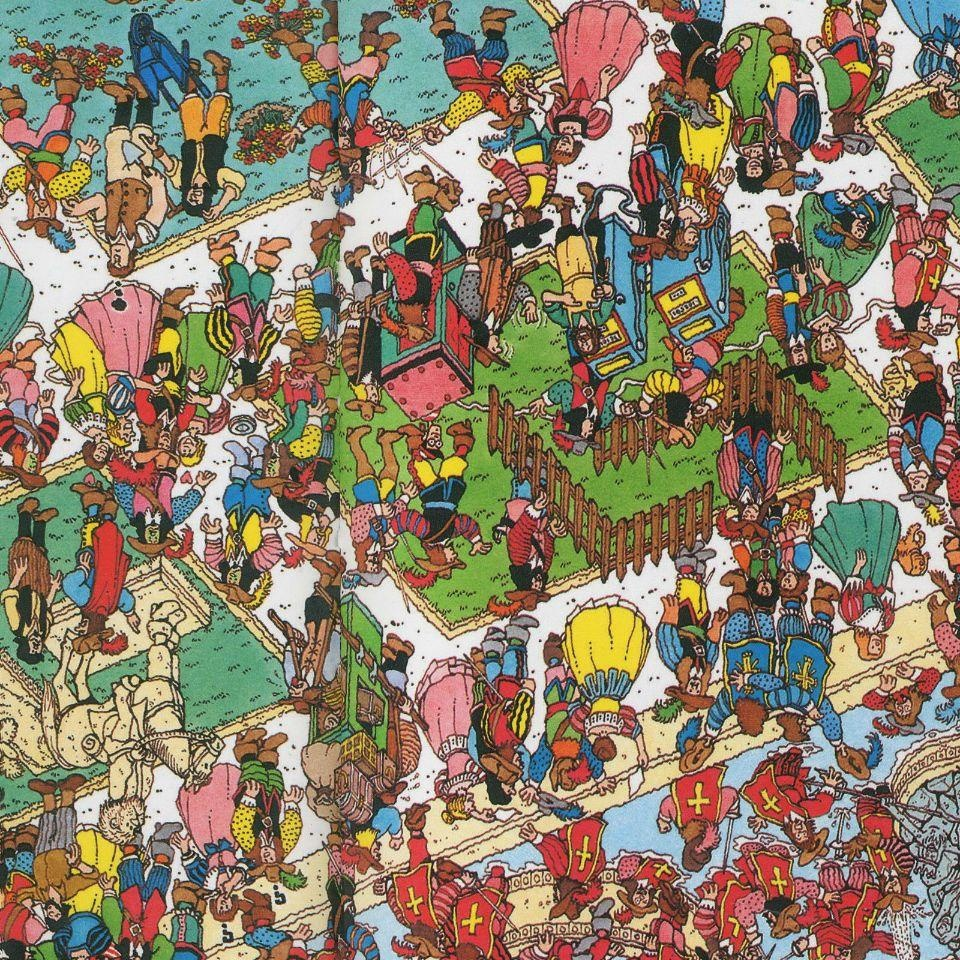waldo: (412, 419, 450, 462)
